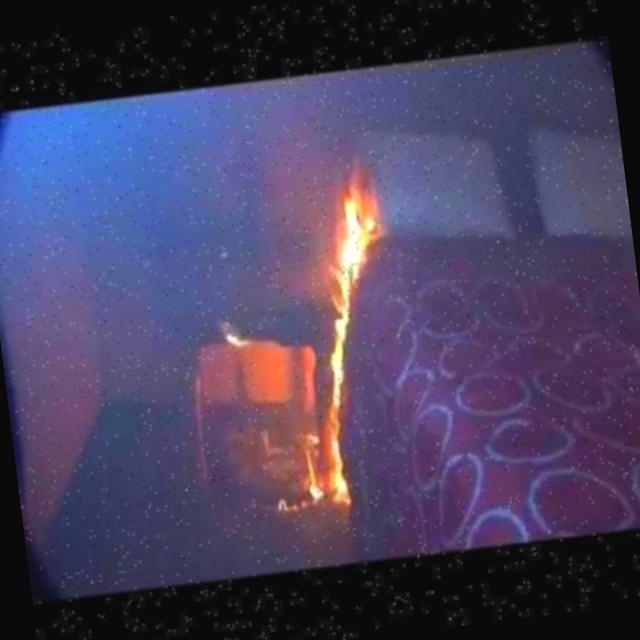fire: (225, 152, 438, 530)
